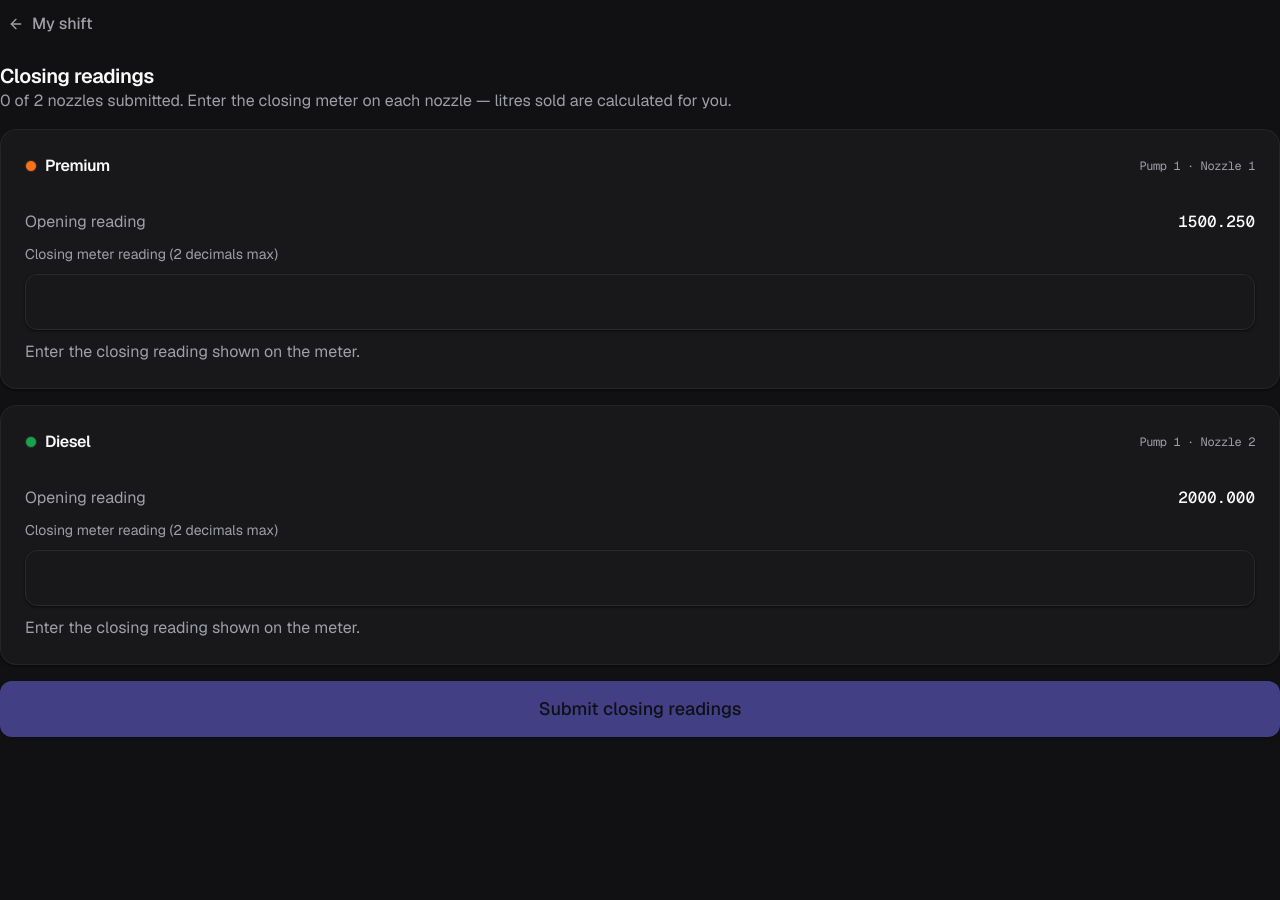
Scenario: ClosingReadingsPage › maps the server's 409 closing_already_submitted onto the lock message
In the field labelled "Closing meter reading (2 decimals max)" below "1500.250": {"x": 640, "y": 302} x1=25 y1=274 x2=1255 y2=330, type "1620.50"
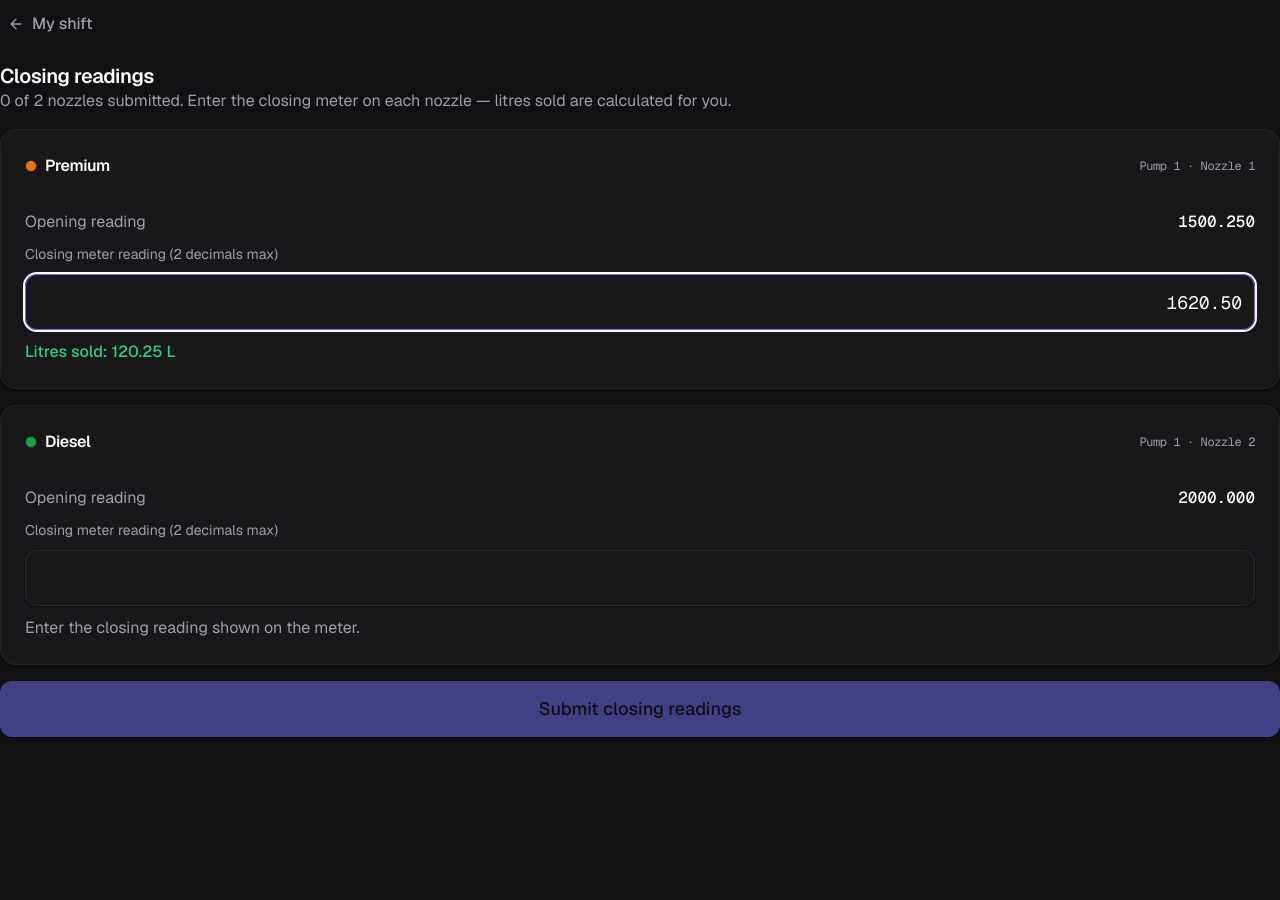
In the field labelled "Closing meter reading (2 decimals max)" below "2000.000": {"x": 640, "y": 578} x1=25 y1=550 x2=1255 y2=606, type "2300"
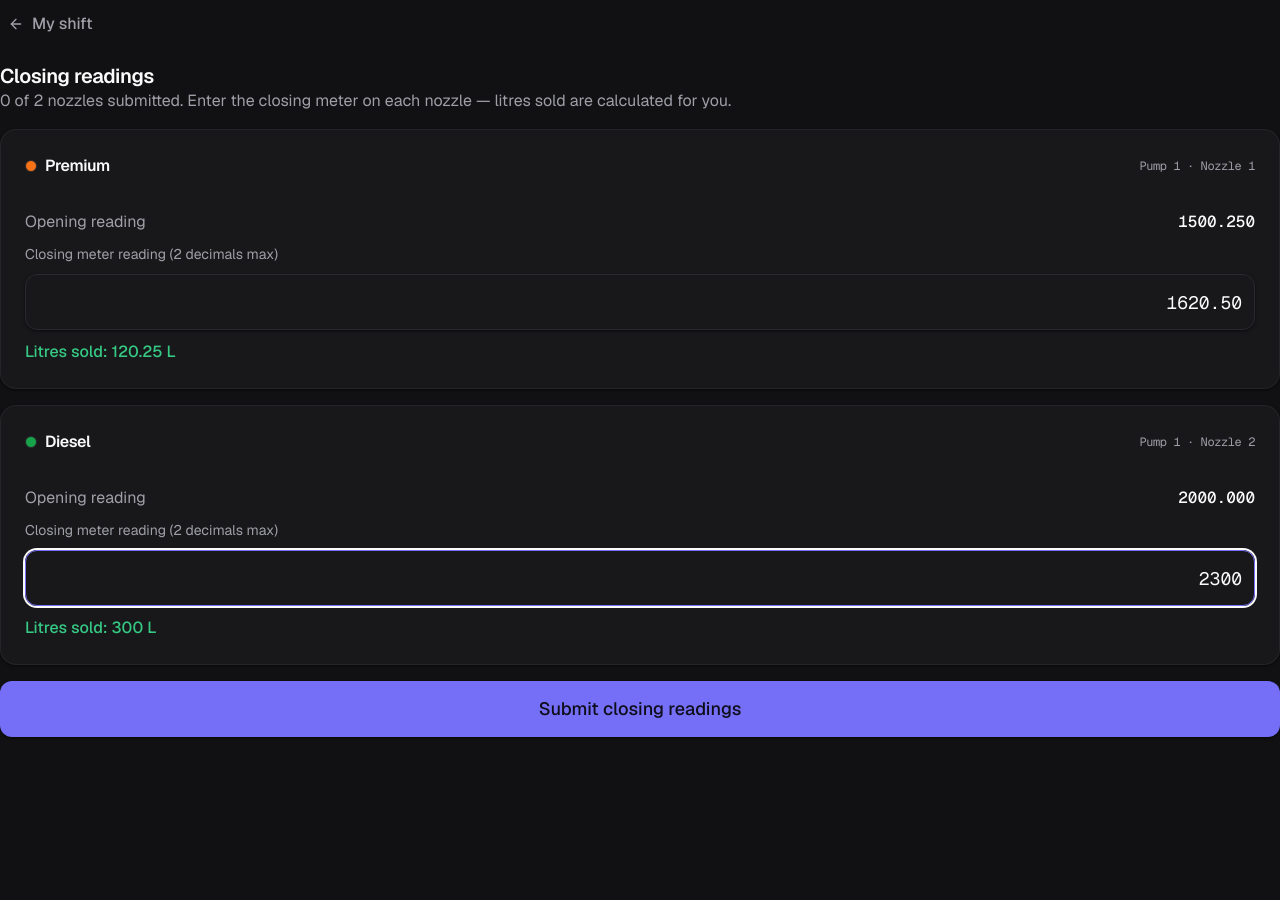
Click the button "Submit closing readings": {"x": 640, "y": 709} x1=0 y1=681 x2=1279 y2=737
(page scrolled)
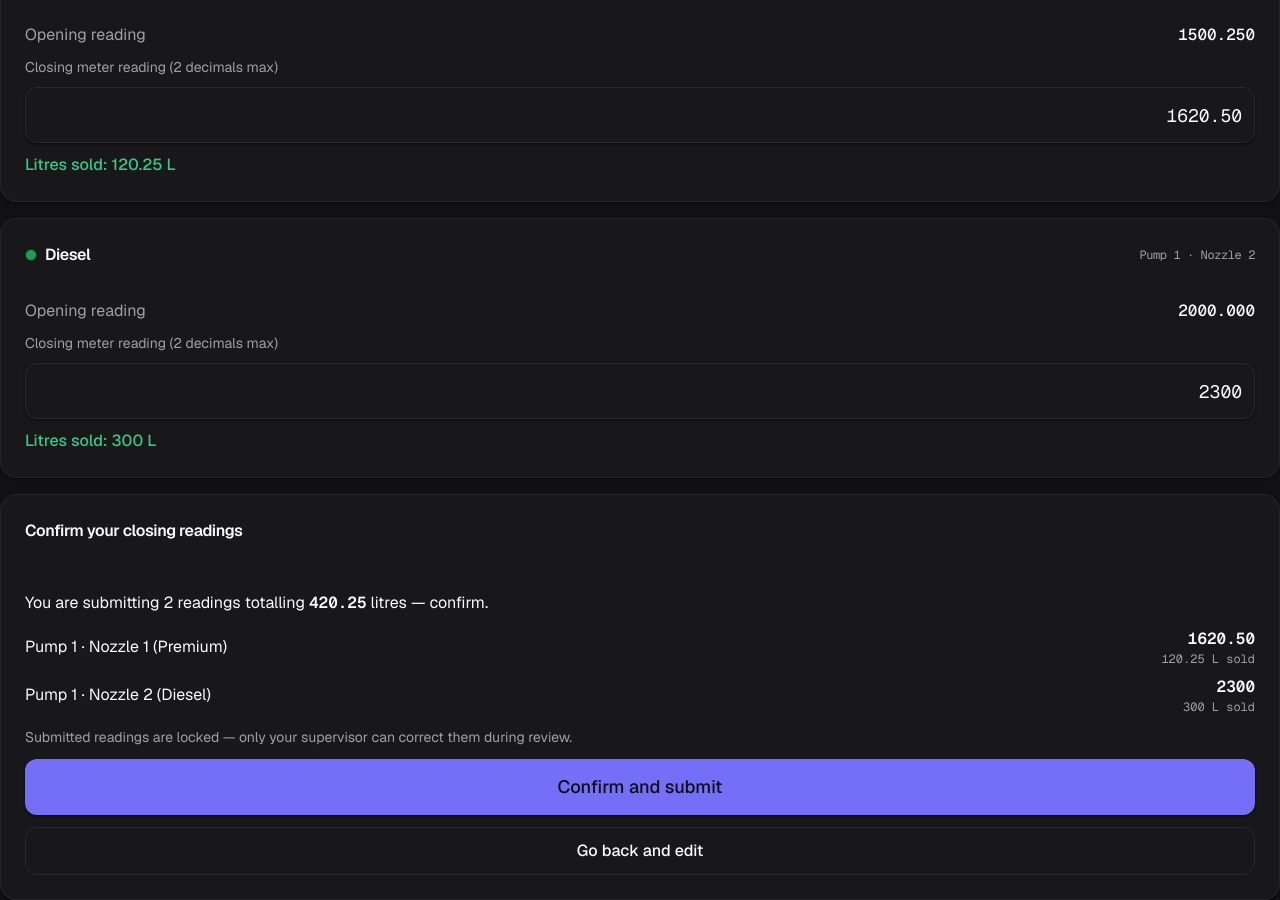
Click the button "Confirm and submit": {"x": 640, "y": 787} x1=25 y1=759 x2=1255 y2=815
(page scrolled)
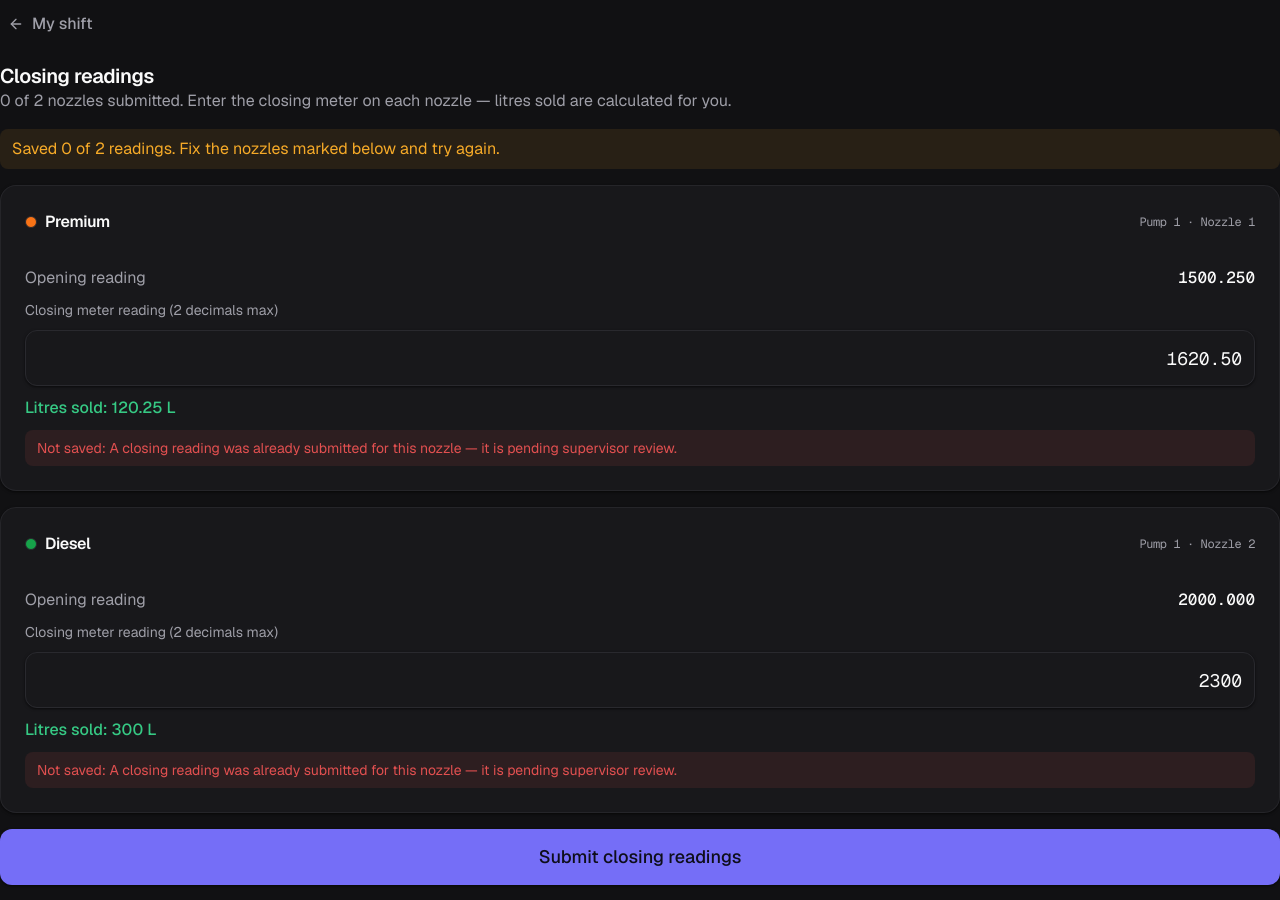
Check: the text "Saved 0 of 2 readings. Fix the nozzles marked below and try again." is shown, box x1=0 y1=129 x2=1279 y2=169
Check: the text "already submitted for this nozzle — it is pending supervisor review" below "Litres sold: 120.25 L" is shown, box x1=37 y1=439 x2=677 y2=457
